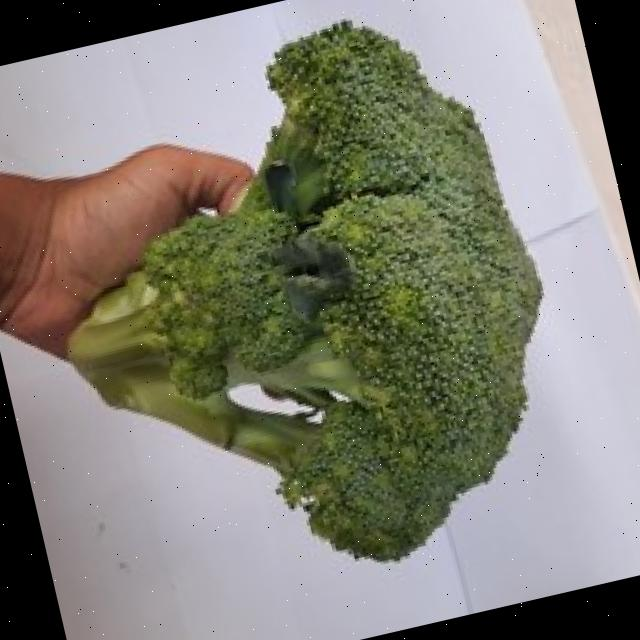Broccoli: (68, 21, 541, 560), (68, 21, 540, 560)
